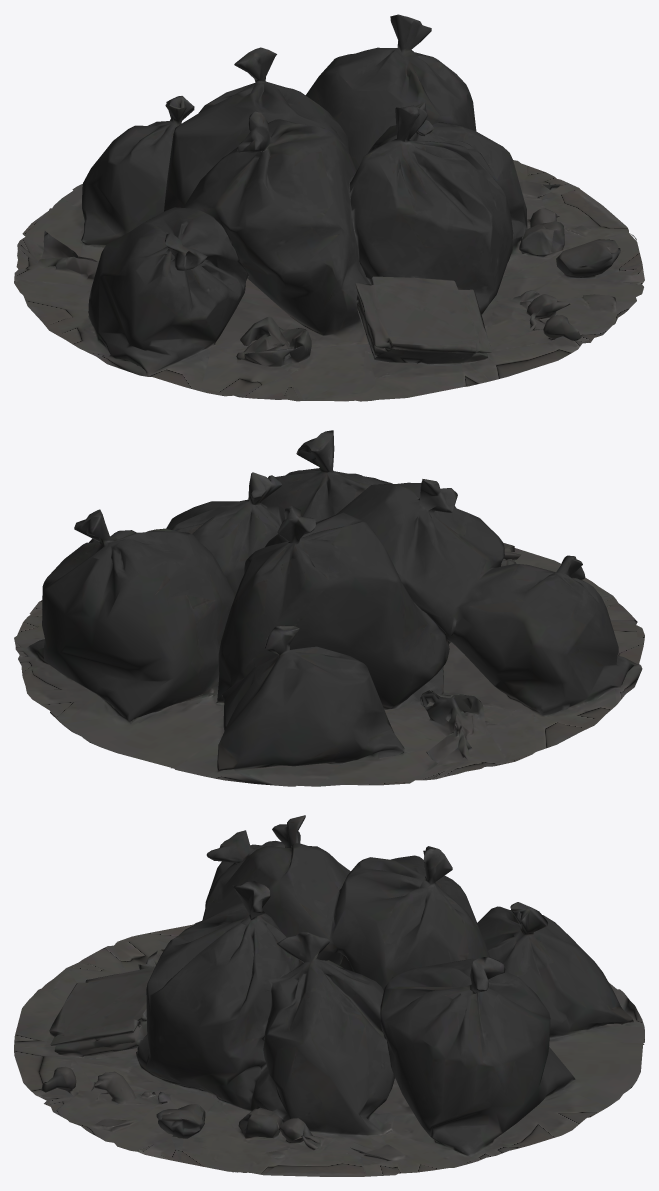
Rendered from becoTrashPile.glb.
The picture shows the model from 3 angles, top to bottom: view 1: azimuth 30°, elevation 25°; view 2: azimuth 150°, elevation 25°; view 3: azimuth 270°, elevation 25°; orthographic projection.
Size of the model in its own units: 1.88 by 0.6606 by 1.88.
1 material, 1 textured.
